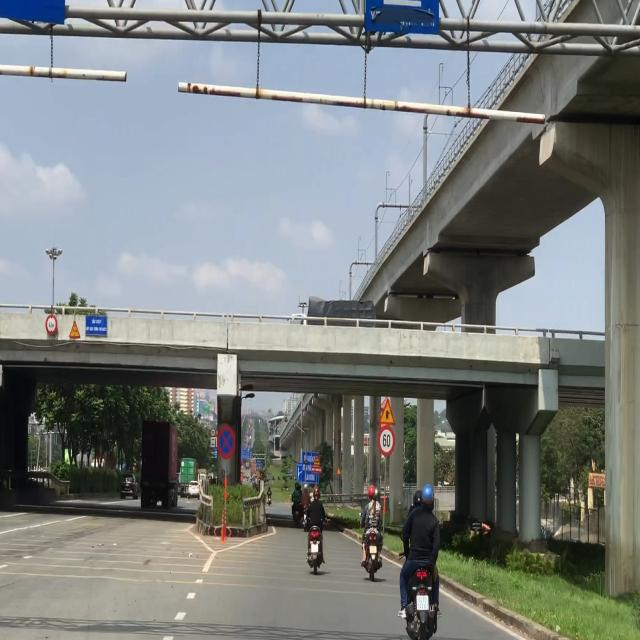Cam dung va do: (216, 424, 237, 461)
Chieu cao toi da: (46, 315, 58, 335)
Giao voi duong khong uu tien: (379, 398, 396, 427)
Nguy hiem: (68, 322, 82, 339)
Toc do toi da: (378, 425, 396, 457)
